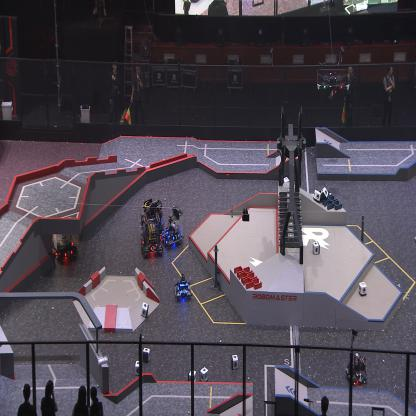car: (50, 217, 80, 264), (140, 198, 167, 246), (160, 204, 185, 249), (140, 212, 164, 258), (345, 351, 369, 386), (173, 270, 192, 302)
